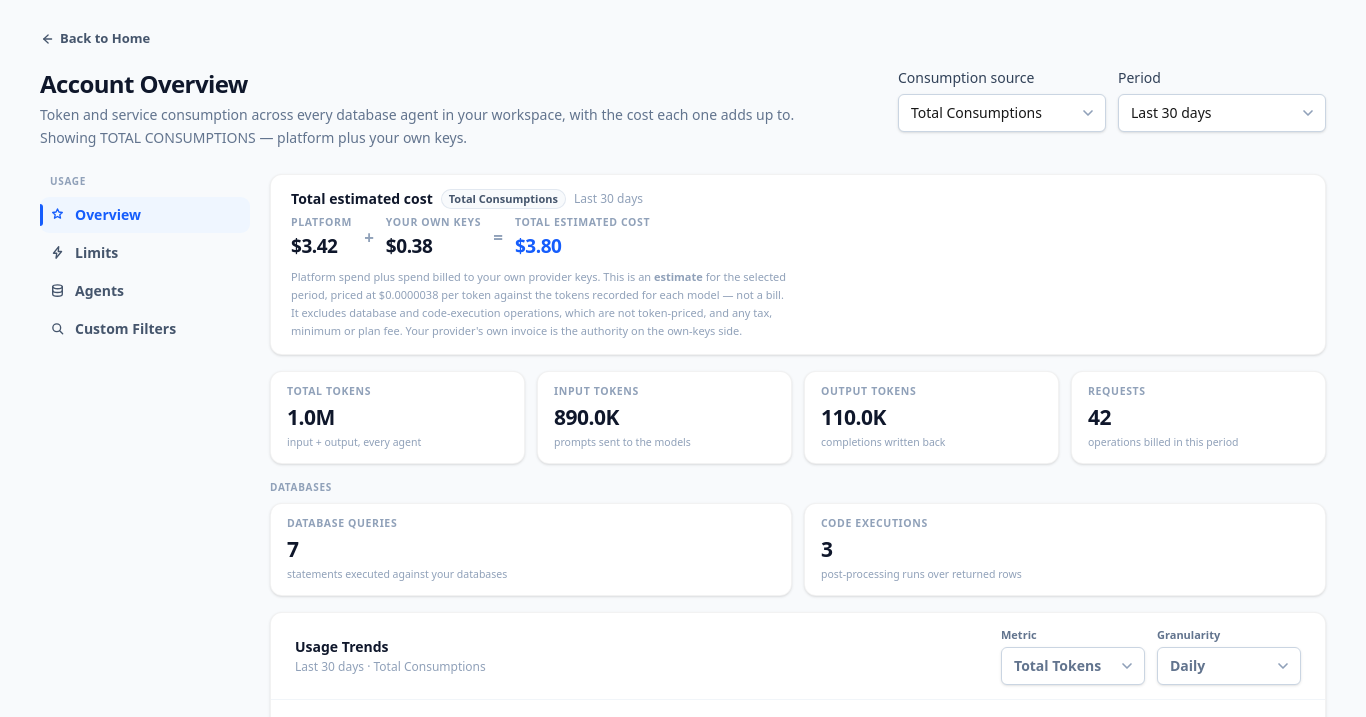
Test: the screen shell › names the active consumption source in the sub-line
Select "Owner Consumptions" in the dropdown named "Consumption source" at point(1002, 113), box [898,94,1106,132]
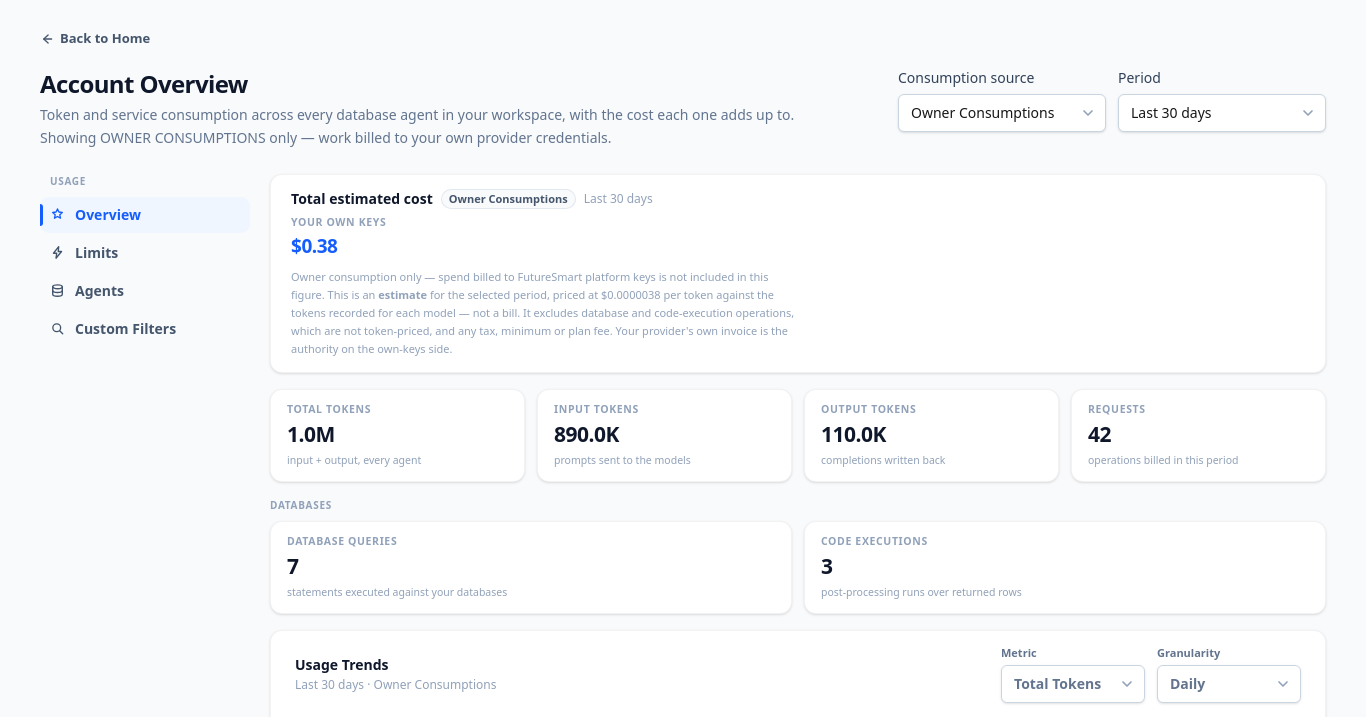
Expected: the text "Showing OWNER CONSUMPTIONS only — work billed to your own provider credentials" is shown, [40,105,794,147]
Select "Platform Consumptions" in the dropdown named "Consumption source" at point(1002, 113), box [898,94,1106,132]
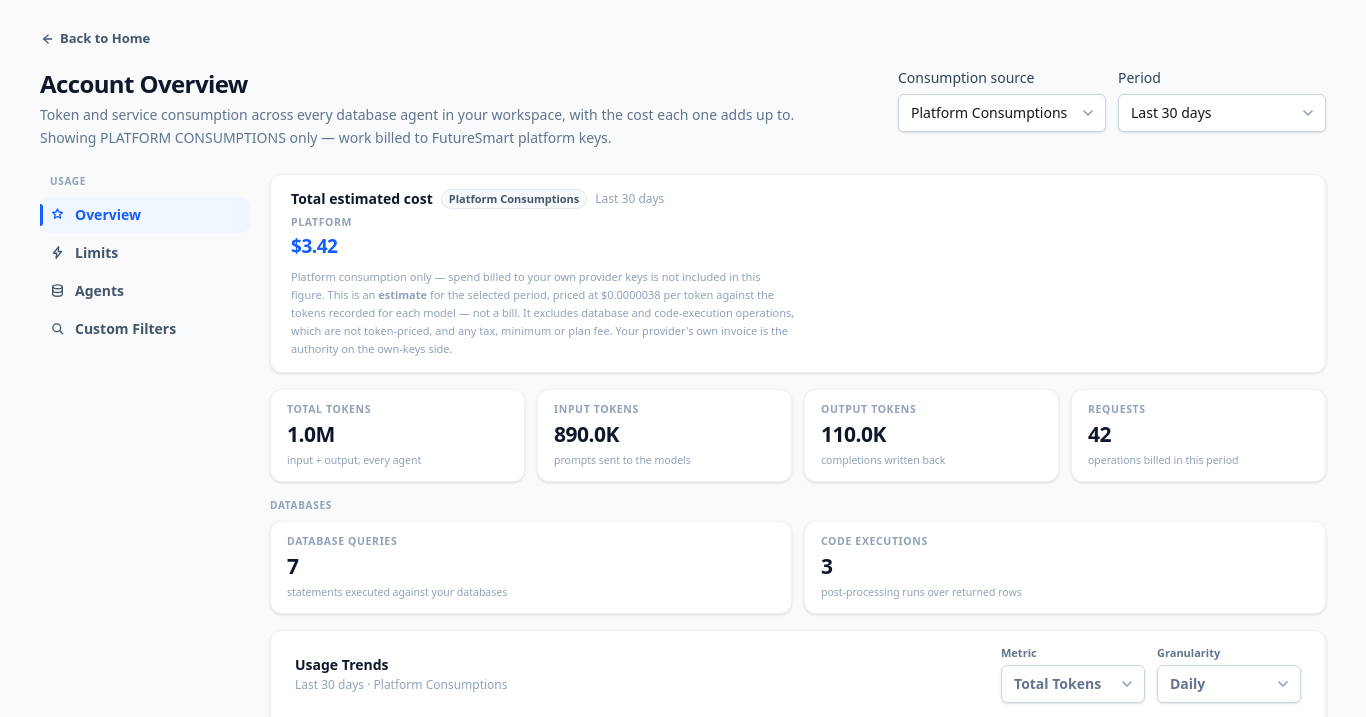
Expected: the text "Showing PLATFORM CONSUMPTIONS only — work billed to FutureSmart platform keys" is shown, [40,105,794,147]
